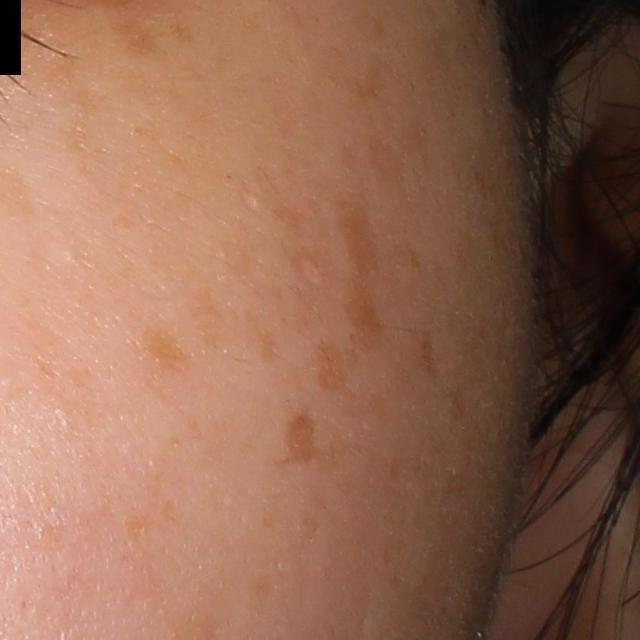melasma: (312, 201, 381, 398), (311, 50, 394, 110), (61, 86, 109, 183), (404, 320, 446, 388), (139, 326, 193, 375), (216, 232, 261, 287), (368, 135, 406, 198), (284, 412, 326, 465), (254, 322, 283, 364)
